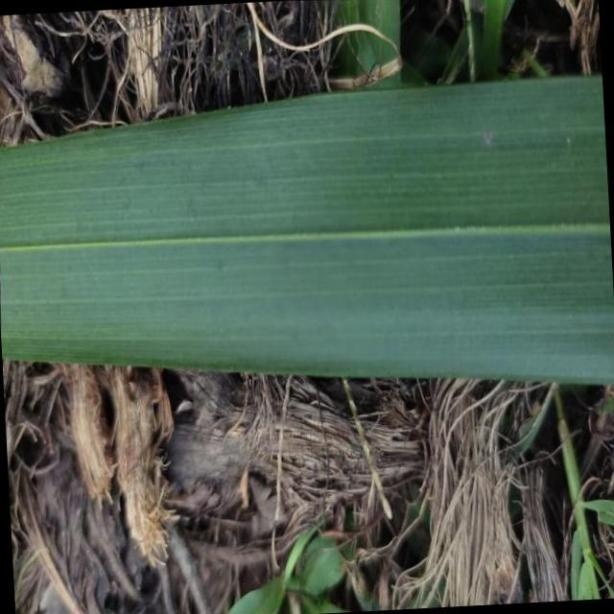Healthy: (0, 72, 614, 385)
